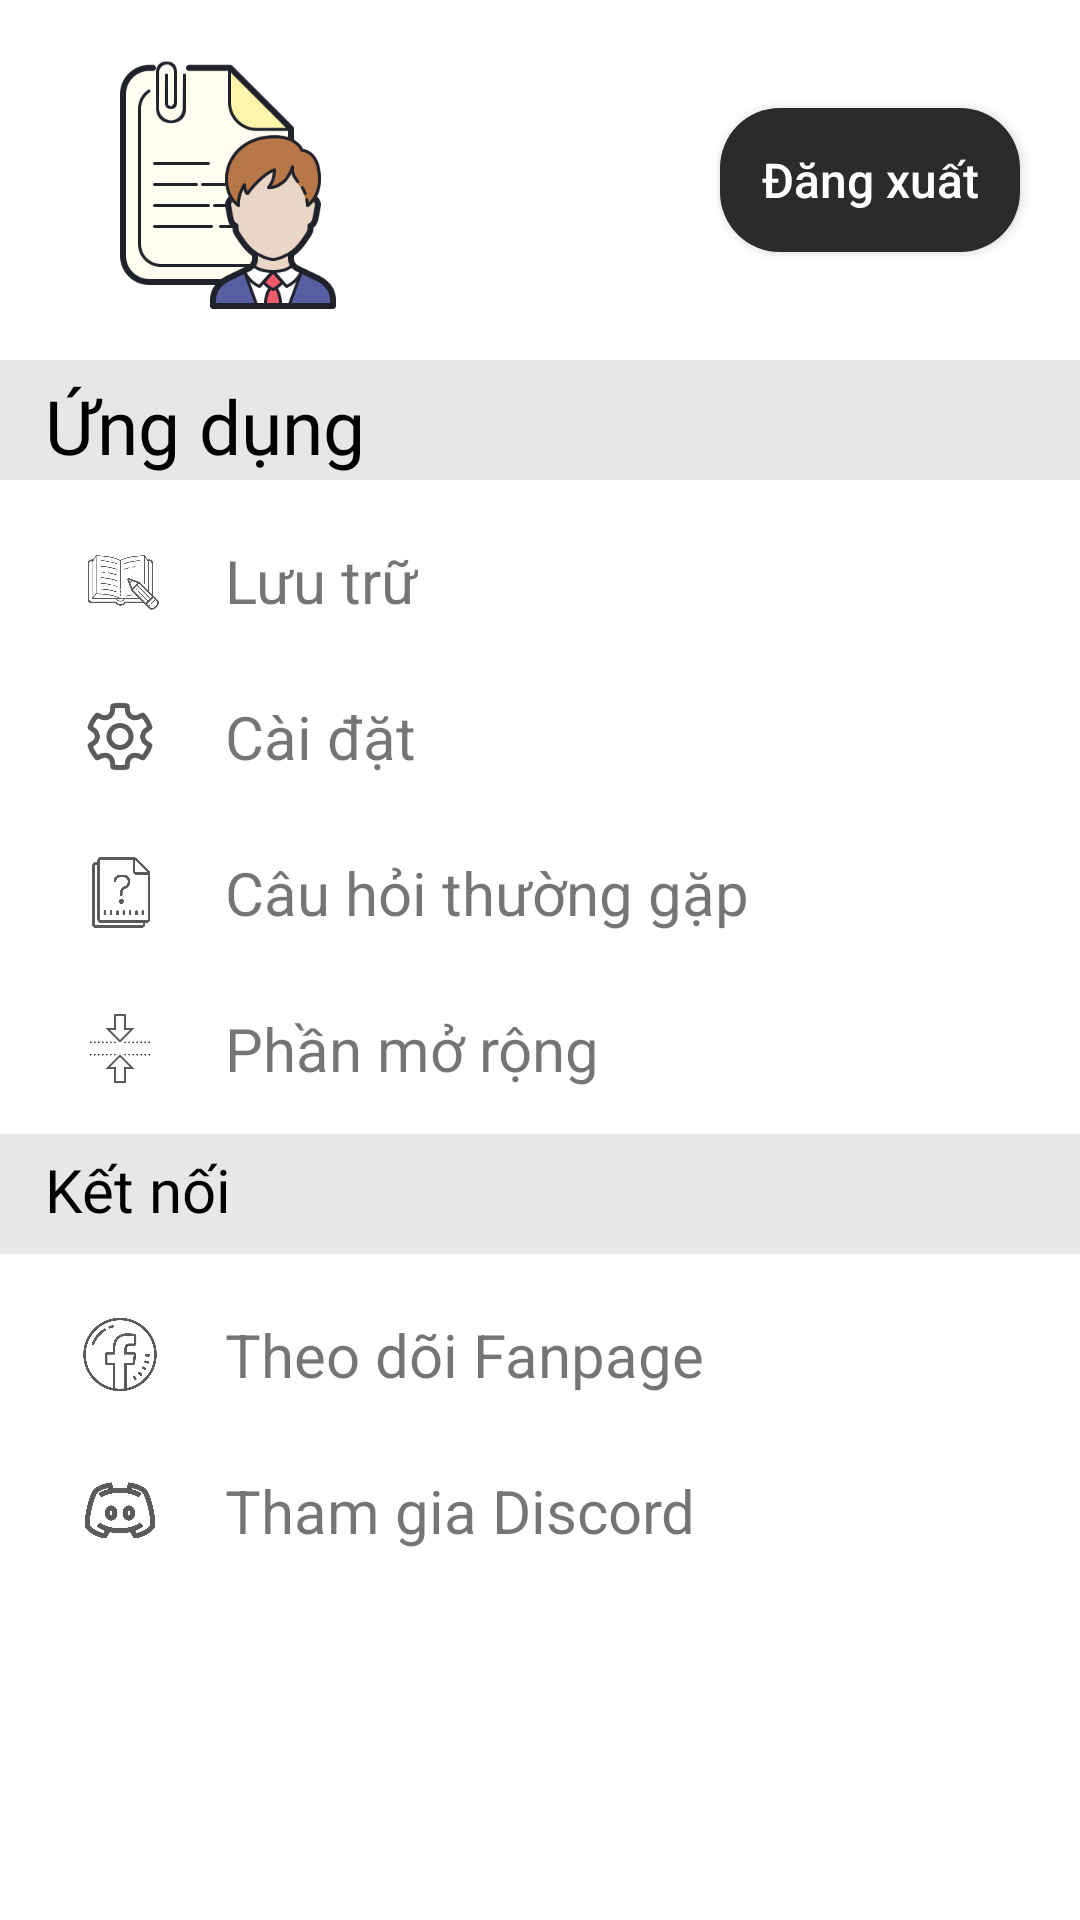

Where to tap for icons on this 1080px×1920px app screen, as (x,y):
profile cauhoi: (121,892)
profile luutru: (123,582)
profile setting: (120,736)
